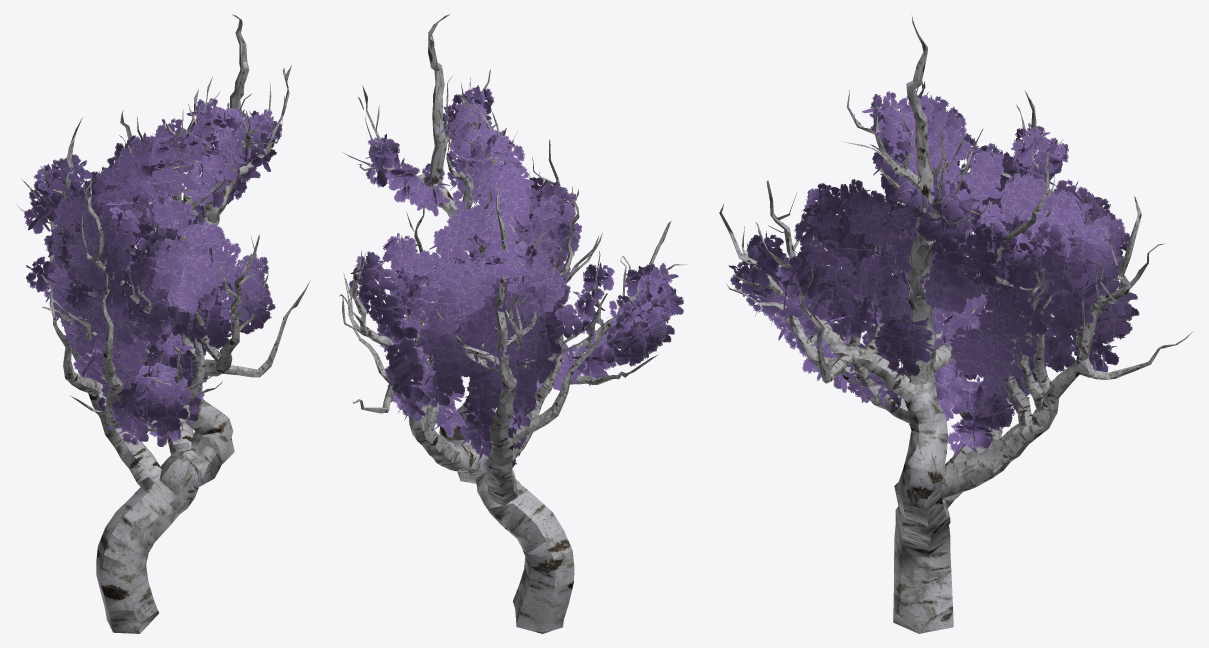
The model's file is tree_w_material 2.fbx.
3 views of the same model, side by side, from view 1: azimuth 30°, elevation 25°; view 2: azimuth 150°, elevation 25°; view 3: azimuth 270°, elevation 25° (orthographic). The views are drawn at different scales.
Visible parts, largest first — view 1: geo1; view 2: geo1; view 3: geo1.
Boxes of the visible parts, x1,y1,x2,y2 form: geo1: [15, 14, 310, 633]; geo1: [339, 14, 686, 633]; geo1: [719, 14, 1193, 633].
Bounding box in the file's own units: 430 × 904 × 585.
